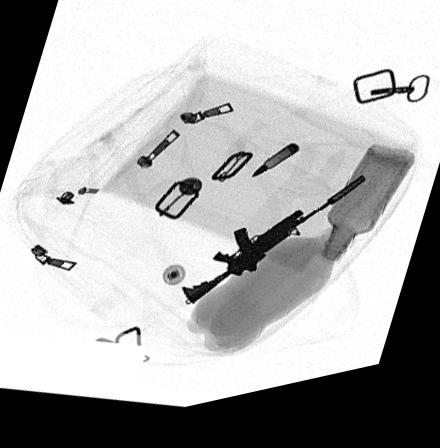Bullet: (249, 155, 300, 190)
Gun: (180, 192, 365, 311)
